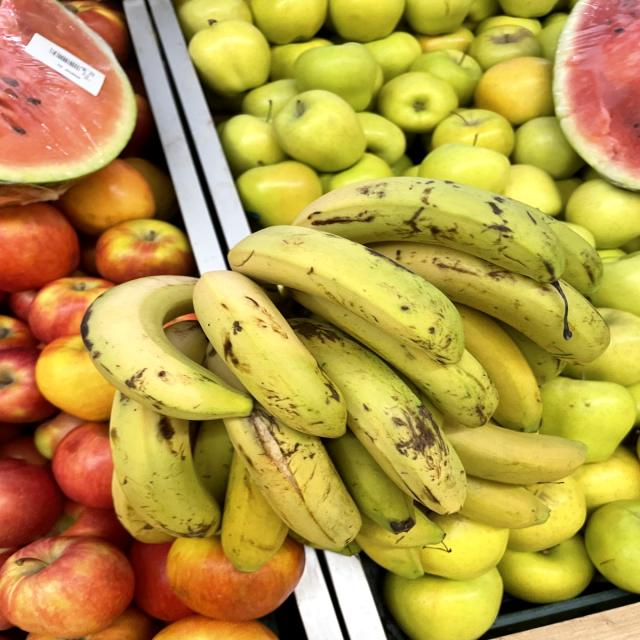banana: (225, 224, 468, 364), (76, 270, 257, 418)
